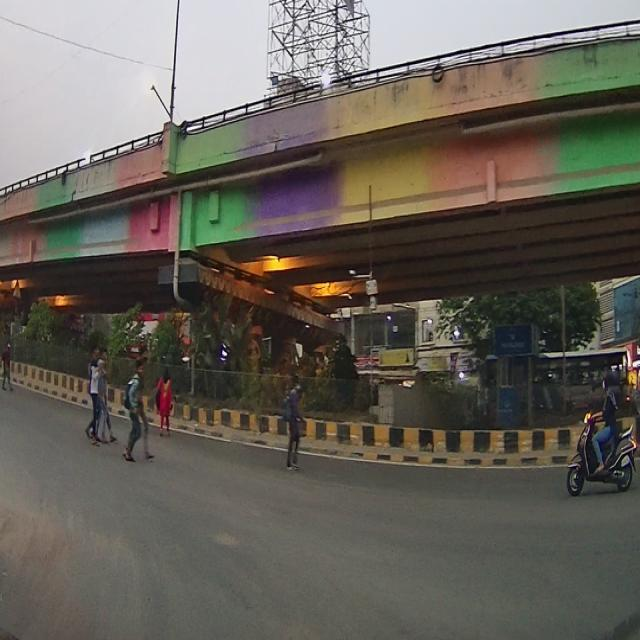gap-in-median: (12, 276, 22, 300)
